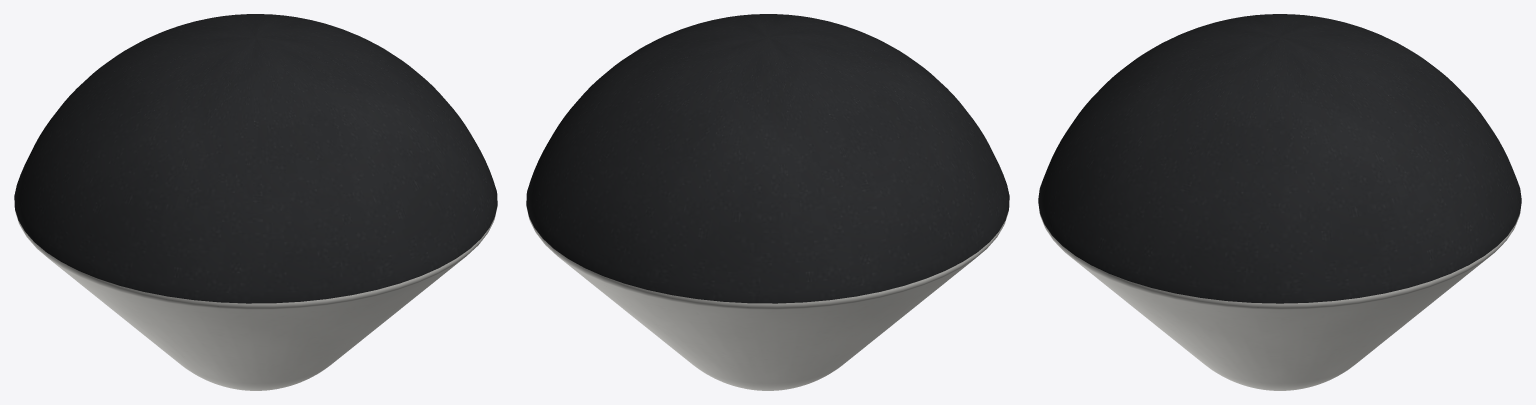
File: ds2-exterior-mobile.glb
3 renders of one model, left to right at view 1: azimuth 30°, elevation 25°; view 2: azimuth 150°, elevation 25°; view 3: azimuth 270°, elevation 25°, orthographic.
Parts seen in each view (by area): view 1: AEROSHELL_AFTSHELL_SiC, AEROSHELL_HEATSHIELD_HEATSHIELD_SIRCA_SIRCA; view 2: AEROSHELL_AFTSHELL_SiC, AEROSHELL_HEATSHIELD_HEATSHIELD_SIRCA_SIRCA; view 3: AEROSHELL_AFTSHELL_SiC, AEROSHELL_HEATSHIELD_HEATSHIELD_SIRCA_SIRCA.
Boxes of the visible parts, x1=… form: AEROSHELL_AFTSHELL_SiC: x1=14, y1=14, x2=497, y2=303; AEROSHELL_HEATSHIELD_HEATSHIELD_SIRCA_SIRCA: x1=15, y1=206, x2=497, y2=390; AEROSHELL_AFTSHELL_SiC: x1=526, y1=14, x2=1009, y2=303; AEROSHELL_HEATSHIELD_HEATSHIELD_SIRCA_SIRCA: x1=526, y1=206, x2=1008, y2=390; AEROSHELL_AFTSHELL_SiC: x1=1038, y1=14, x2=1521, y2=303; AEROSHELL_HEATSHIELD_HEATSHIELD_SIRCA_SIRCA: x1=1038, y1=203, x2=1521, y2=390.
Bounding box in the file's own units: 0.35 × 0.2732 × 0.35.
Materials: 17 (11 with a texture image).
